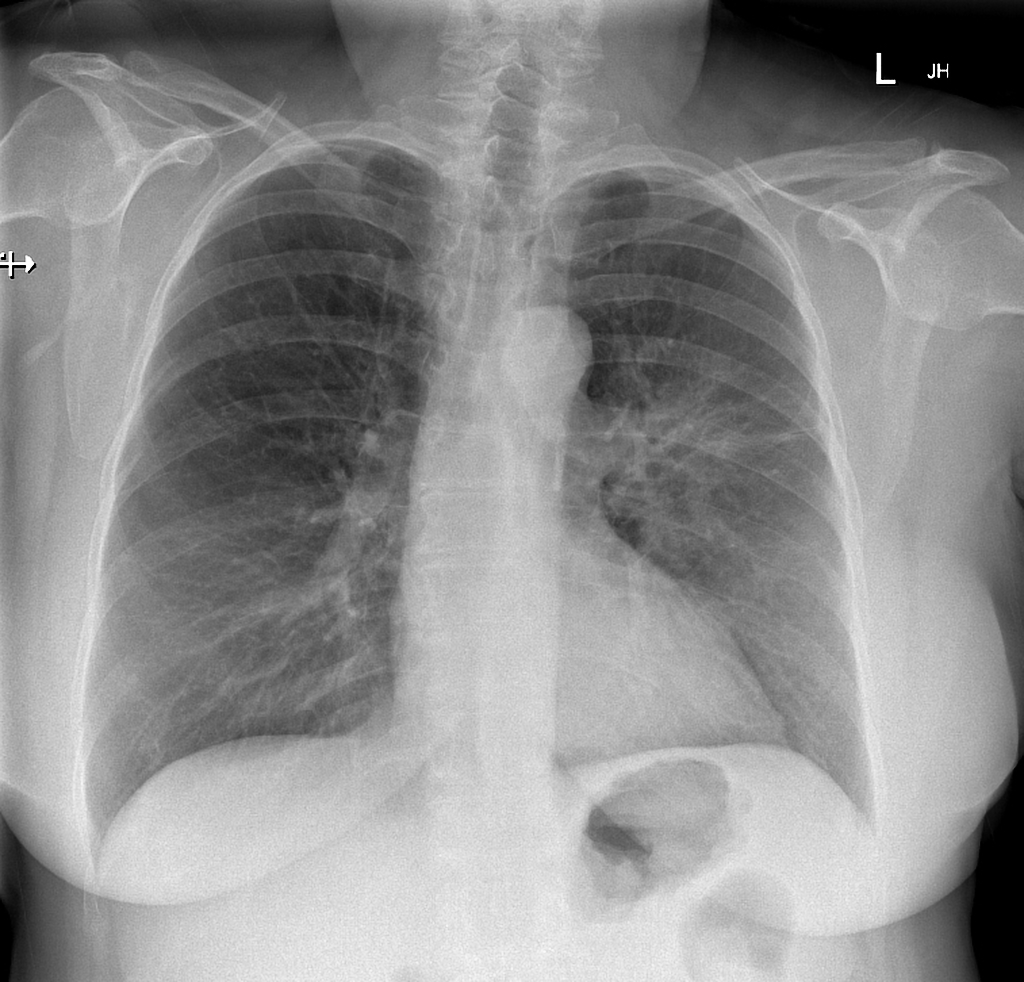cancer: (181, 226, 447, 695)
